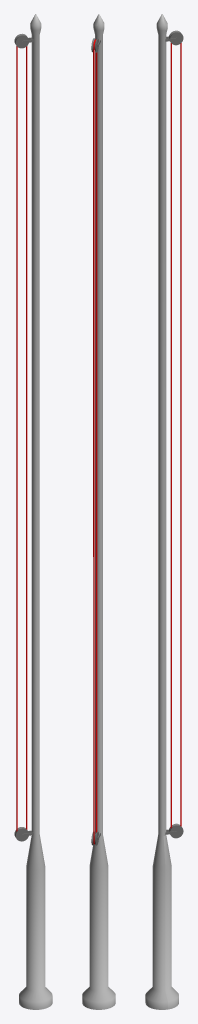
The model's file is mastil.fbx.
3 renders of one model, left to right at view 1: azimuth 90°, elevation 25°; view 2: azimuth 150°, elevation 25°; view 3: azimuth 270°, elevation 25°, orthographic.
Parts seen in each view (by area): view 1: Polygonal_Geometry; view 2: Polygonal_Geometry; view 3: Polygonal_Geometry.
Part boxes in pixels (x1,y1,x2,y2): Polygonal_Geometry: (14,14,52,1009); Polygonal_Geometry: (82,14,115,1009); Polygonal_Geometry: (145,14,183,1009).
Size of the model in its own units: 60.8 by 1972 by 68.87.
